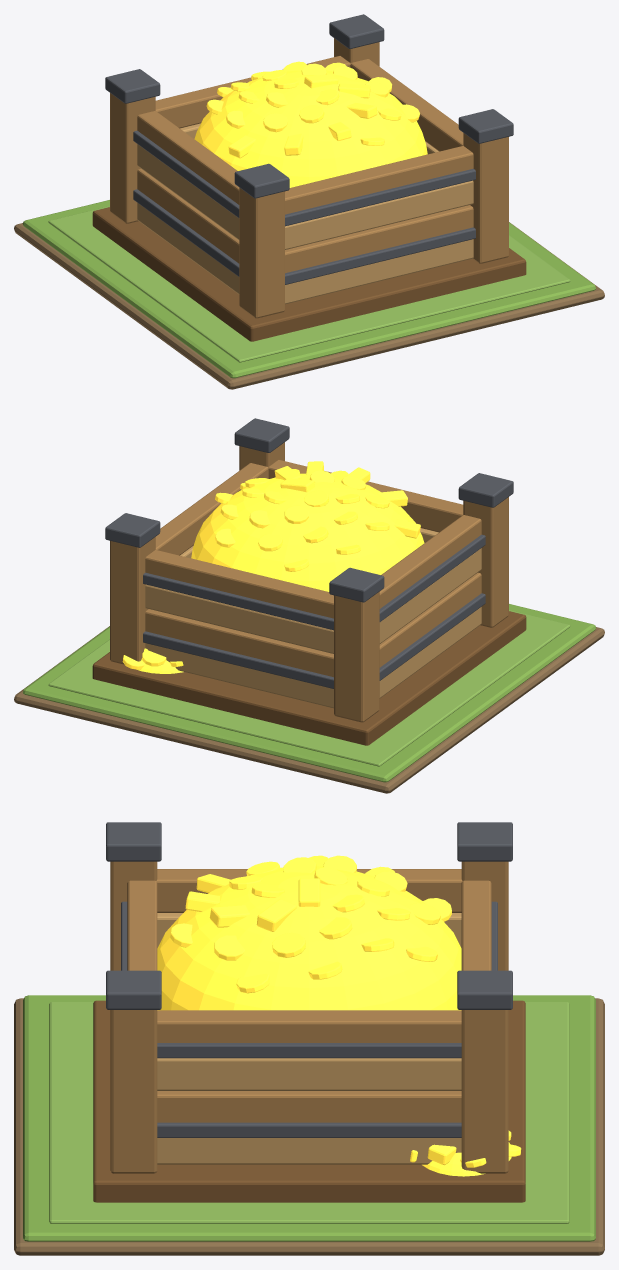
File: gold_storage_lv1.glb
The picture shows the model from 3 angles, top to bottom: view 1: azimuth 30°, elevation 25°; view 2: azimuth 150°, elevation 25°; view 3: azimuth 270°, elevation 25°; orthographic projection. The views are drawn at different scales.
Parts seen in each view (by area): view 1: GoldMoundBase, Platform, Base_Inner, Base_Grass, Base_Dirt, Post_-1_-1, FrontBackPlank_3_2, FrontBackPlank_2_2, FrontBackPlank_1_2, Post_1_-1, FrontBackPlank_0_2, Post_-1_1 (+15 smaller); view 2: GoldMoundBase, Platform, Base_Inner, Base_Grass, Base_Dirt, Post_-1_1, FrontBackPlank_3_1, FrontBackPlank_2_1, FrontBackPlank_1_1, Post_1_1, Post_-1_-1, FrontBackPlank_0_1 (+15 smaller); view 3: Base_Inner, GoldMoundBase, Base_Grass, Platform, Base_Dirt, SidePlank_2_1, SidePlank_3_1, SidePlank_1_1, Post_1_-1, Post_1_1, SidePlank_0_1, IronStrapLR_0_1 (+17 smaller).
Boxes of the visible parts, bbox=[...] form: GoldMoundBase: bbox=[194, 70, 427, 187]; Platform: bbox=[92, 207, 526, 341]; Base_Inner: bbox=[48, 206, 570, 362]; Base_Grass: bbox=[23, 200, 595, 378]; Base_Dirt: bbox=[14, 222, 604, 389]; Post_-1_-1: bbox=[239, 187, 284, 318]; FrontBackPlank_3_2: bbox=[285, 145, 473, 214]; FrontBackPlank_2_2: bbox=[285, 180, 473, 249]; FrontBackPlank_1_2: bbox=[285, 205, 473, 273]; Post_1_-1: bbox=[463, 133, 508, 263]; FrontBackPlank_0_2: bbox=[285, 239, 473, 304]; Post_-1_1: bbox=[110, 93, 155, 223]; GoldMoundBase: bbox=[191, 473, 424, 591]; Platform: bbox=[92, 611, 526, 745]; Base_Inner: bbox=[48, 610, 570, 766]; Base_Grass: bbox=[23, 604, 595, 782]; Base_Dirt: bbox=[14, 626, 604, 793]; Post_-1_1: bbox=[334, 591, 379, 722]; FrontBackPlank_3_1: bbox=[145, 549, 333, 618]; FrontBackPlank_2_1: bbox=[145, 584, 333, 653]; FrontBackPlank_1_1: bbox=[145, 609, 333, 677]; Post_1_1: bbox=[110, 537, 155, 664]; Post_-1_-1: bbox=[463, 497, 508, 627]; FrontBackPlank_0_1: bbox=[145, 643, 333, 708]; Base_Inner: bbox=[49, 1002, 569, 1223]; GoldMoundBase: bbox=[157, 866, 461, 1010]; Base_Grass: bbox=[23, 995, 595, 1241]; Platform: bbox=[93, 1000, 525, 1202]; Base_Dirt: bbox=[14, 998, 604, 1255]; SidePlank_2_1: bbox=[157, 1058, 461, 1090]; SidePlank_3_1: bbox=[157, 1010, 461, 1042]; SidePlank_1_1: bbox=[157, 1091, 461, 1122]; Post_1_-1: bbox=[110, 1010, 157, 1173]; Post_1_1: bbox=[461, 1010, 508, 1173]; SidePlank_0_1: bbox=[157, 1138, 461, 1164]; IronStrapLR_0_1: bbox=[157, 1122, 461, 1137].
Size of the model in its own units: 2.76 by 1.31 by 2.76.
